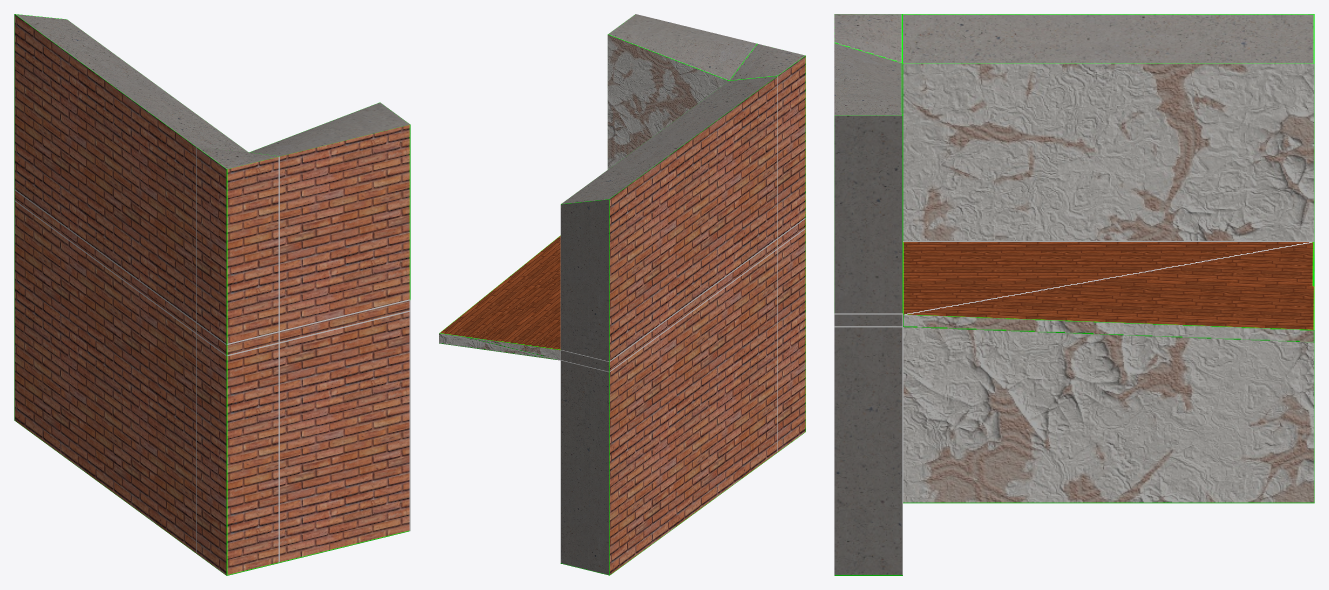
The model's file is House1RuinShort.fbx.
3 renders of one model, left to right at view 1: azimuth 30°, elevation 25°; view 2: azimuth 150°, elevation 25°; view 3: azimuth 270°, elevation 25°, orthographic. The views are drawn at different scales.
Visible parts, largest first — view 1: House1RuinShort; view 2: House1RuinShort; view 3: House1RuinShort.
Boxes of the visible parts, left/top/right/bottom form: House1RuinShort: left=14, top=14, right=410, bottom=575; House1RuinShort: left=439, top=14, right=805, bottom=575; House1RuinShort: left=834, top=14, right=1314, bottom=575.
Size of the model in its own units: 1.75 by 3.7 by 3.5.
Materials: 1 (1 with a texture image).
